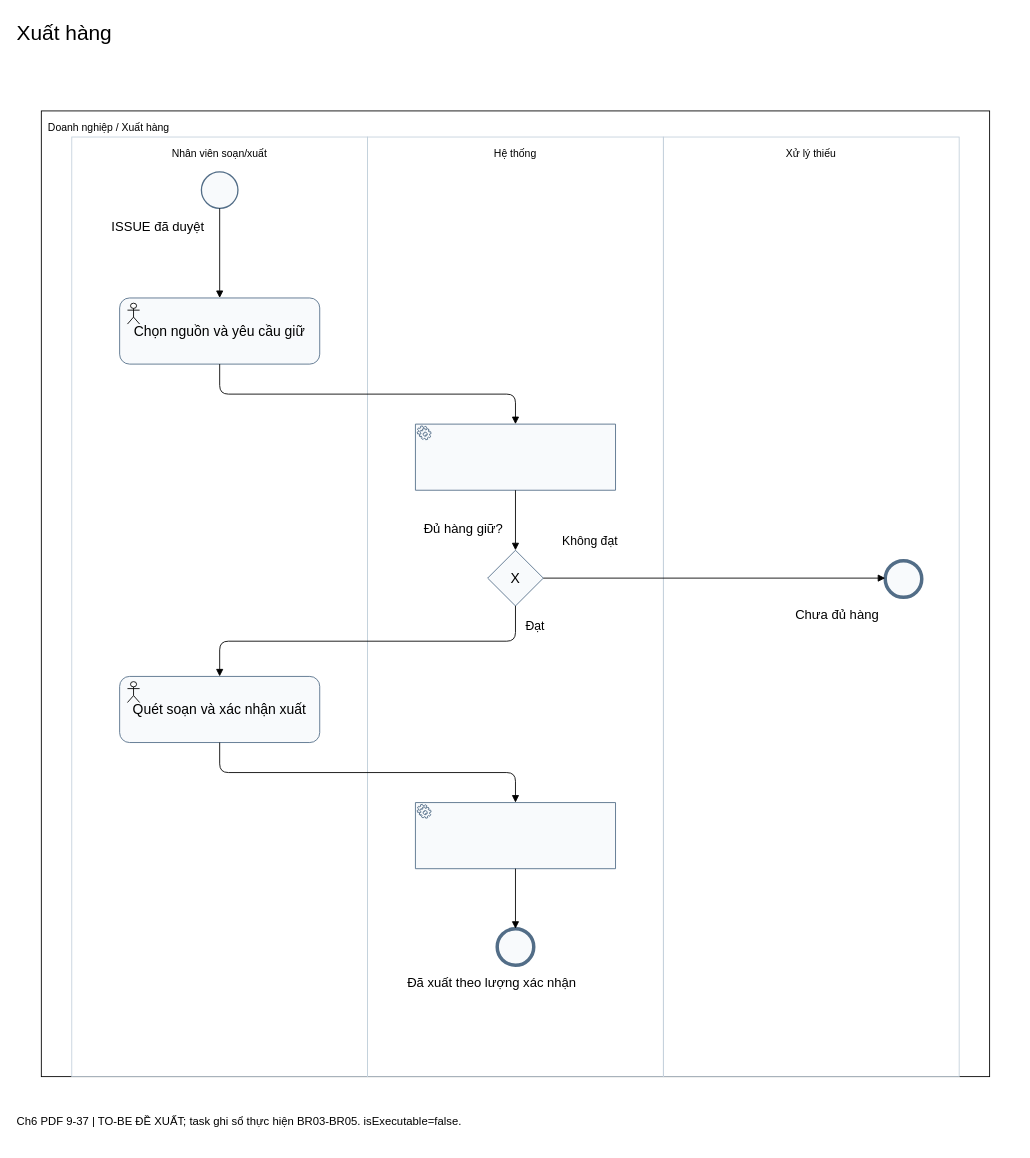
Some shapes in this 1030 by 1158 pixel diagram are drawn without their labels. The centre of each missing label's shape, as x and y in pixels:
"Ghi sổ xuất và dùng giữ chỗ" goes at pixel 515 835.
"Kiểm tra và giữ hàng" goes at pixel 515 456.
